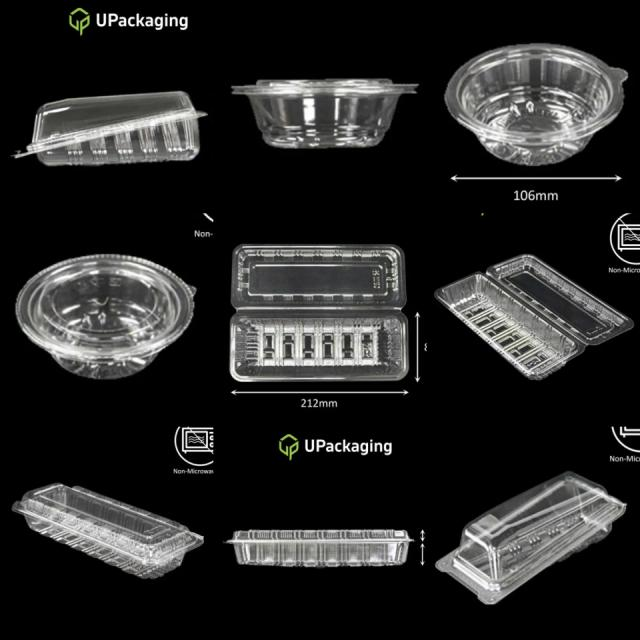Single-Use-Plastic: (436, 471, 626, 604), (435, 255, 634, 379), (230, 245, 409, 381), (16, 254, 195, 379), (445, 44, 628, 166), (12, 484, 204, 579), (15, 91, 206, 166), (232, 79, 418, 149), (228, 530, 411, 567)
